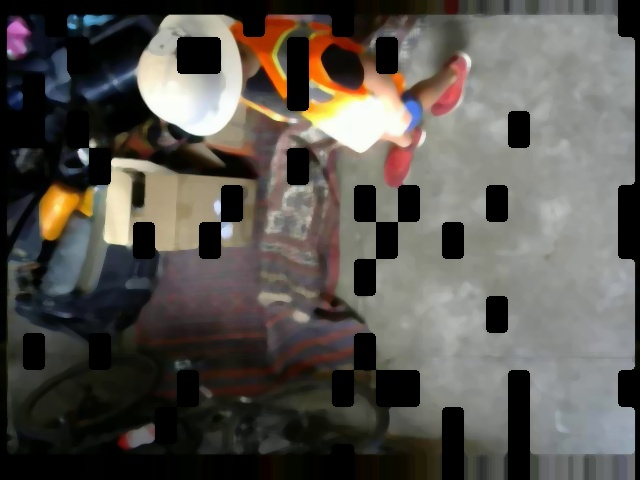one: (146, 22, 189, 56)
